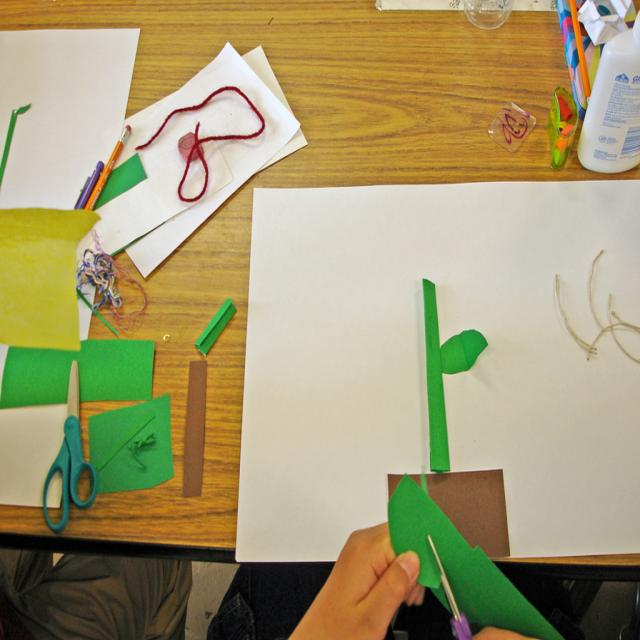scissors: (409, 496, 492, 640), (42, 359, 97, 532)
